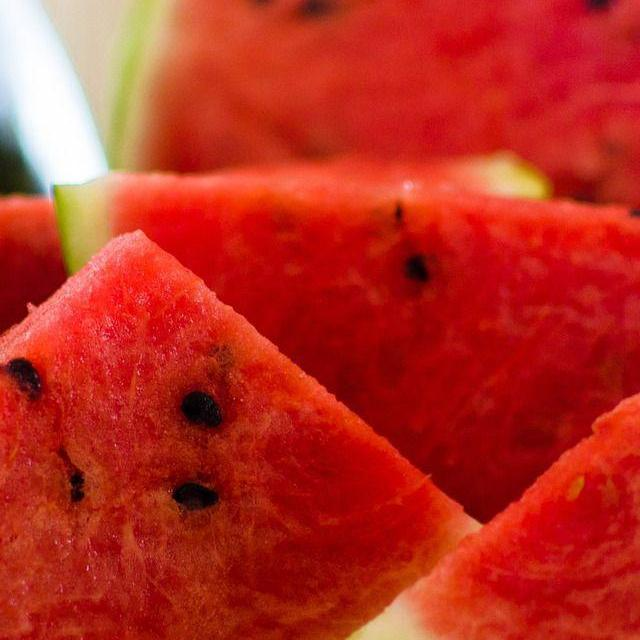watermelon: (46, 177, 640, 541), (0, 232, 497, 640), (140, 0, 640, 211), (332, 369, 640, 640)
